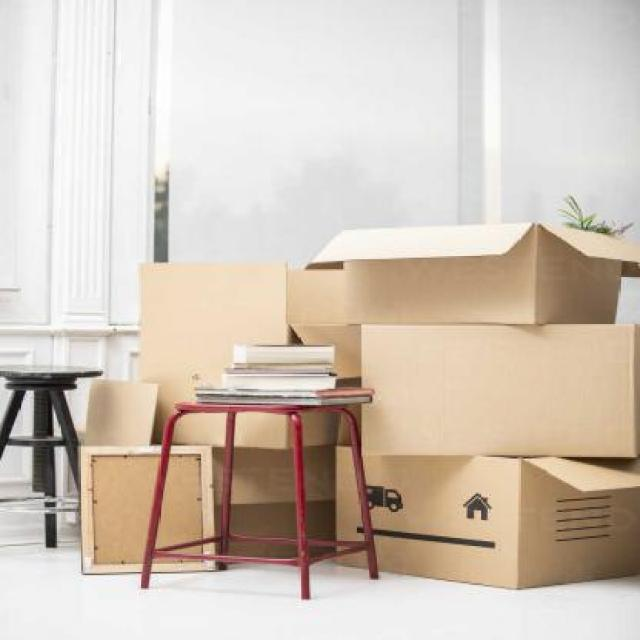box: (328, 444, 637, 599), (344, 306, 633, 465), (133, 246, 296, 417), (350, 233, 618, 329)
